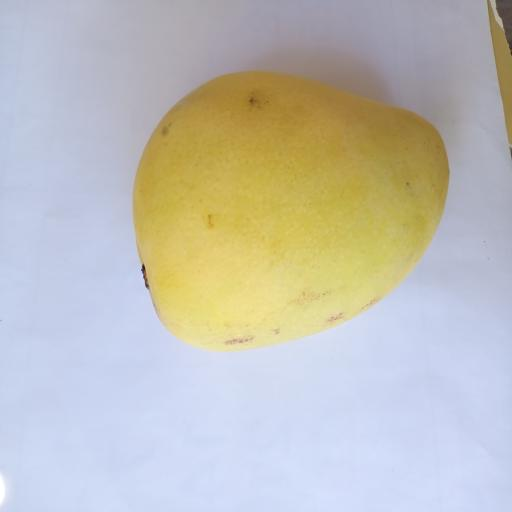mango-ripe: (102, 49, 460, 372)
